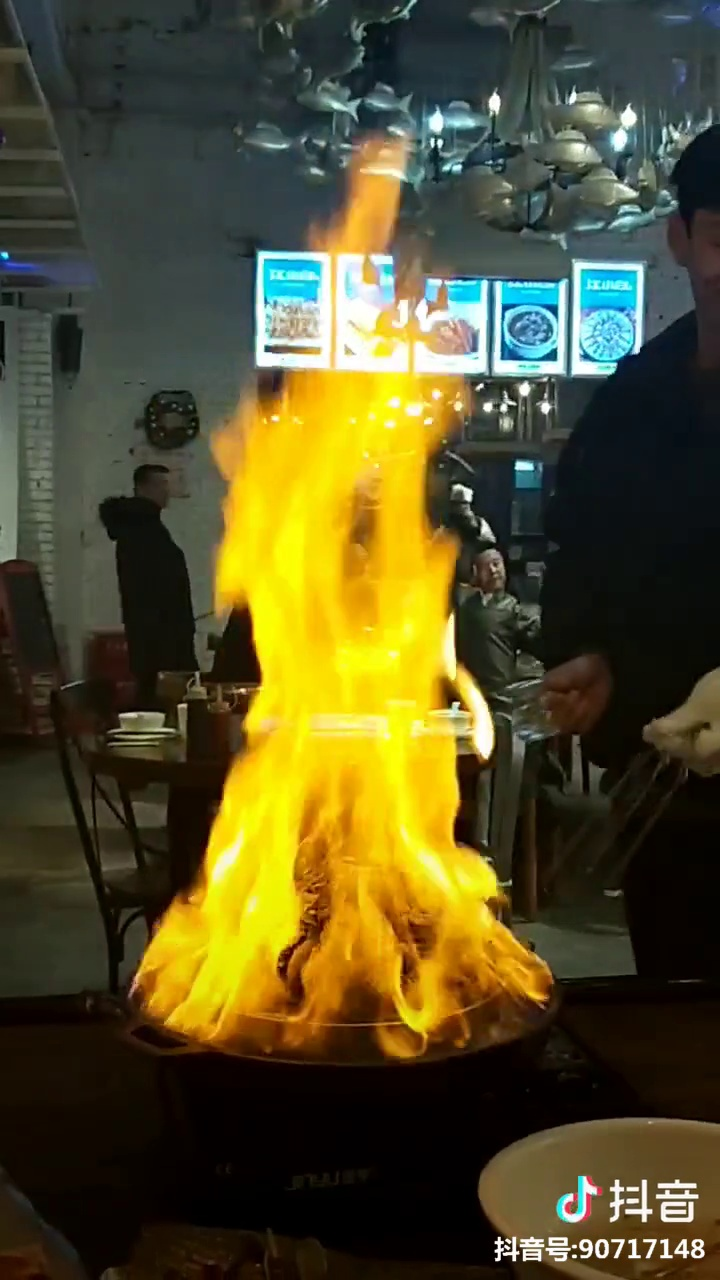fire: (196, 353, 517, 1012)
